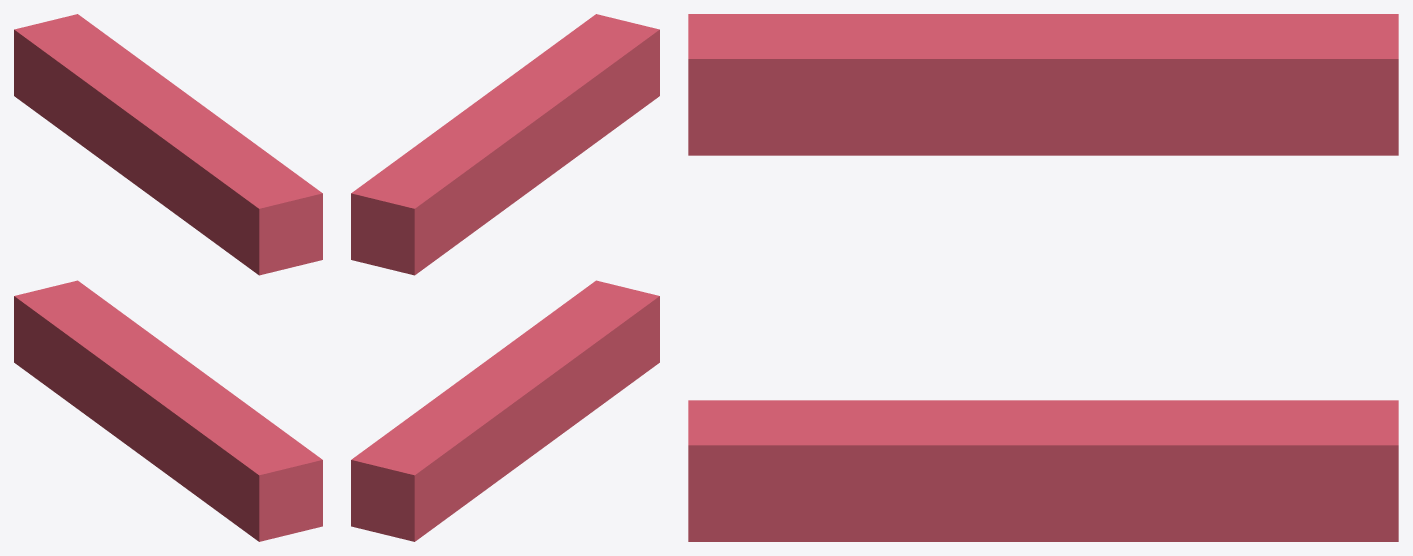
Rendered from pink.obj.
3 views of the same model, side by side, from view 1: azimuth 30°, elevation 25°; view 2: azimuth 150°, elevation 25°; view 3: azimuth 270°, elevation 25° (orthographic). The views are drawn at different scales.
Parts seen in each view (by area): view 1: Cube.002, Cube.004; view 2: Cube.002, Cube.004; view 3: Cube.002, Cube.004.
Part boxes in pixels (bbox=[...]): Cube.002: bbox=[14, 14, 322, 275]; Cube.004: bbox=[14, 280, 322, 541]; Cube.002: bbox=[351, 14, 659, 275]; Cube.004: bbox=[351, 280, 659, 541]; Cube.002: bbox=[688, 14, 1398, 155]; Cube.004: bbox=[688, 400, 1398, 541].
Size of the model in its own units: 0.6 by 3 by 4.
